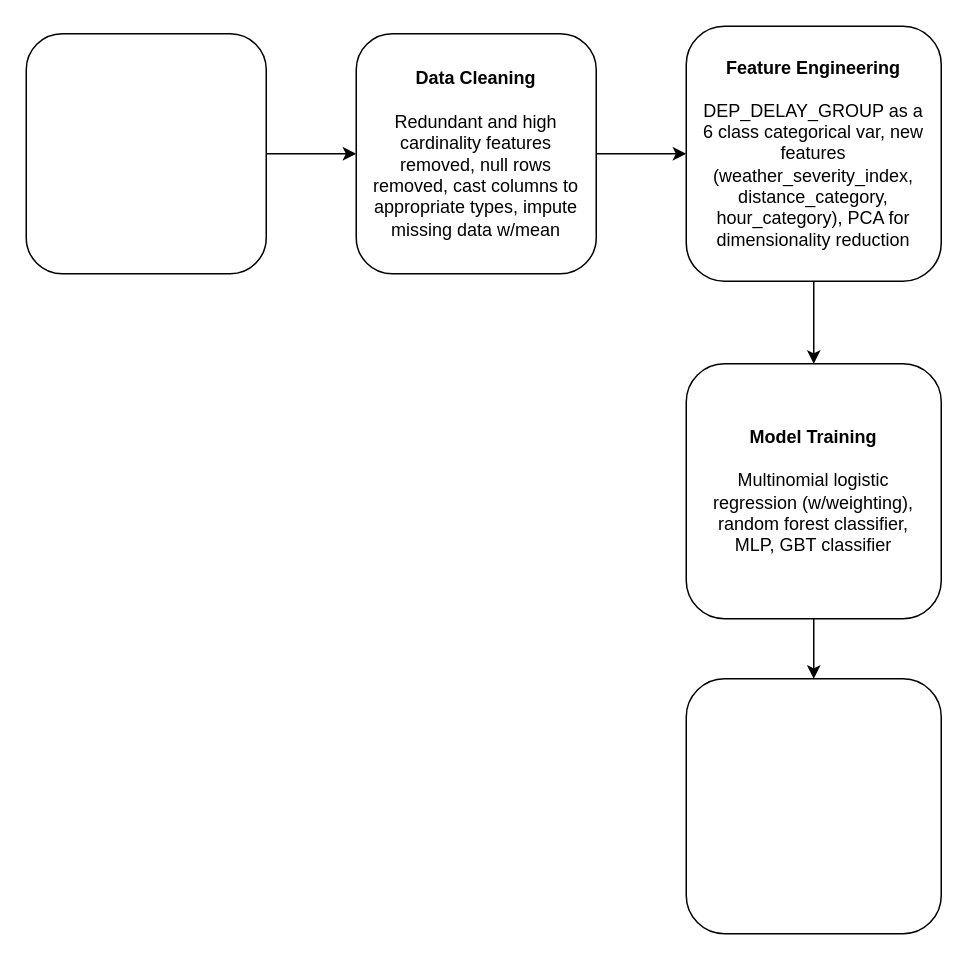
Some shapes in this 968 by 960 pixel diagram are drawn without their labels. The shapes that lost their labels are listed below. From the top down, each one's centre as x and y in pixels, then its label:
the point at 145,153: Raw Data U.S. domestic weather records and flight information from 2015-2019
the point at 813,805: Model Evaluation Accuracy, precision, recall, F1 score
